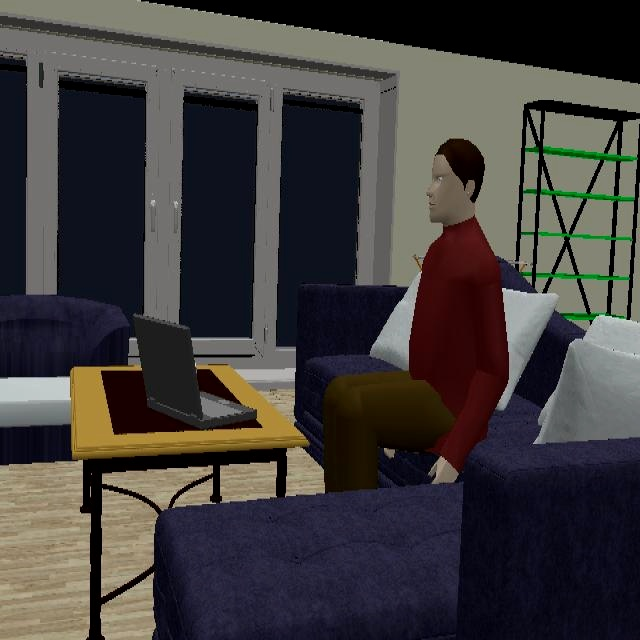laptop: (134, 315, 258, 430)
person: (325, 138, 509, 492)
pillow: (535, 315, 640, 442), (496, 289, 558, 409), (370, 273, 421, 369)
shelf: (542, 147, 636, 162), (541, 191, 634, 201), (539, 232, 631, 239), (536, 274, 630, 279)
sofa: (154, 315, 640, 638), (0, 295, 130, 464), (295, 288, 400, 449)
table: (70, 365, 309, 638)
